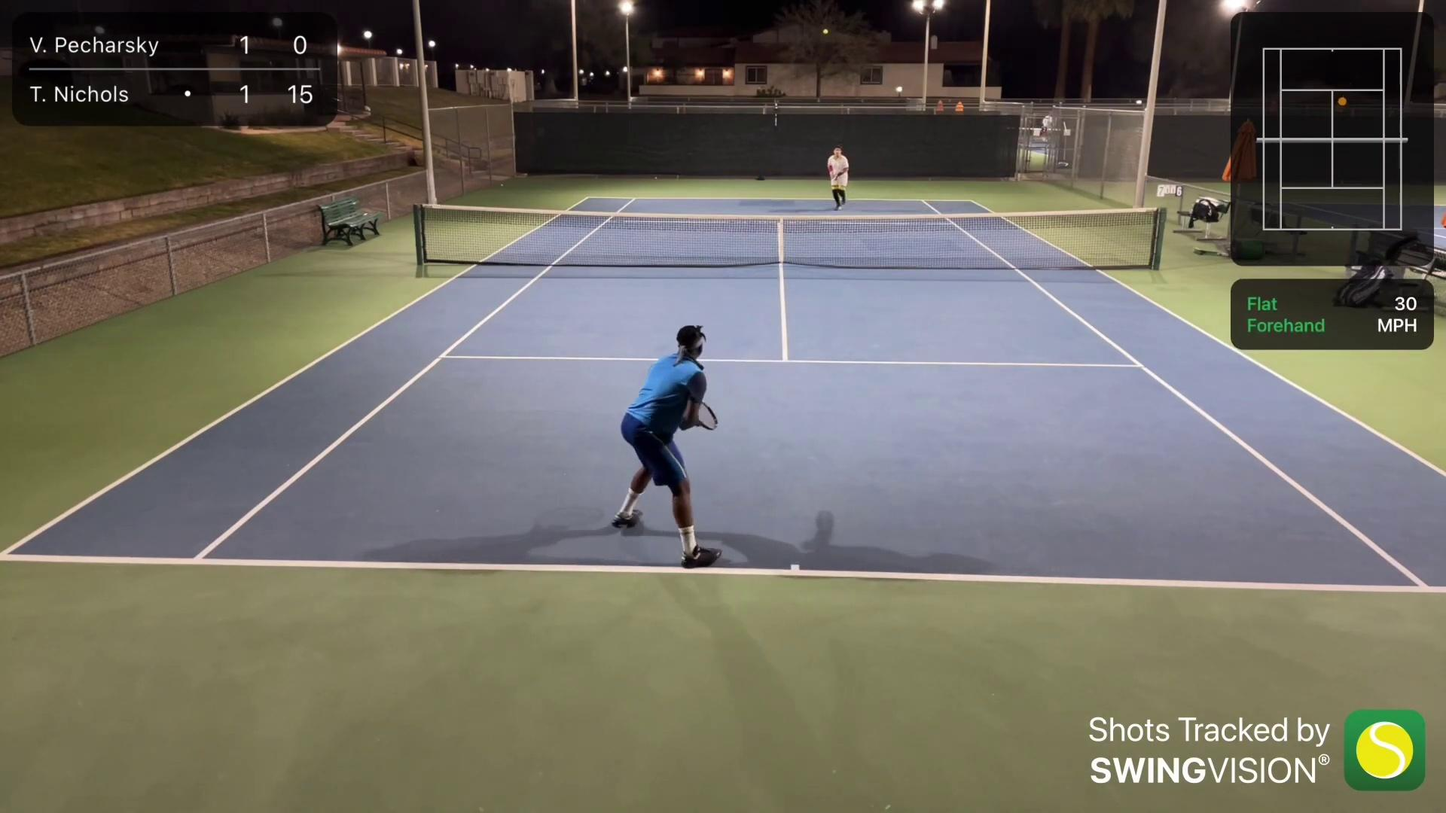ball: (821, 27, 830, 36)
